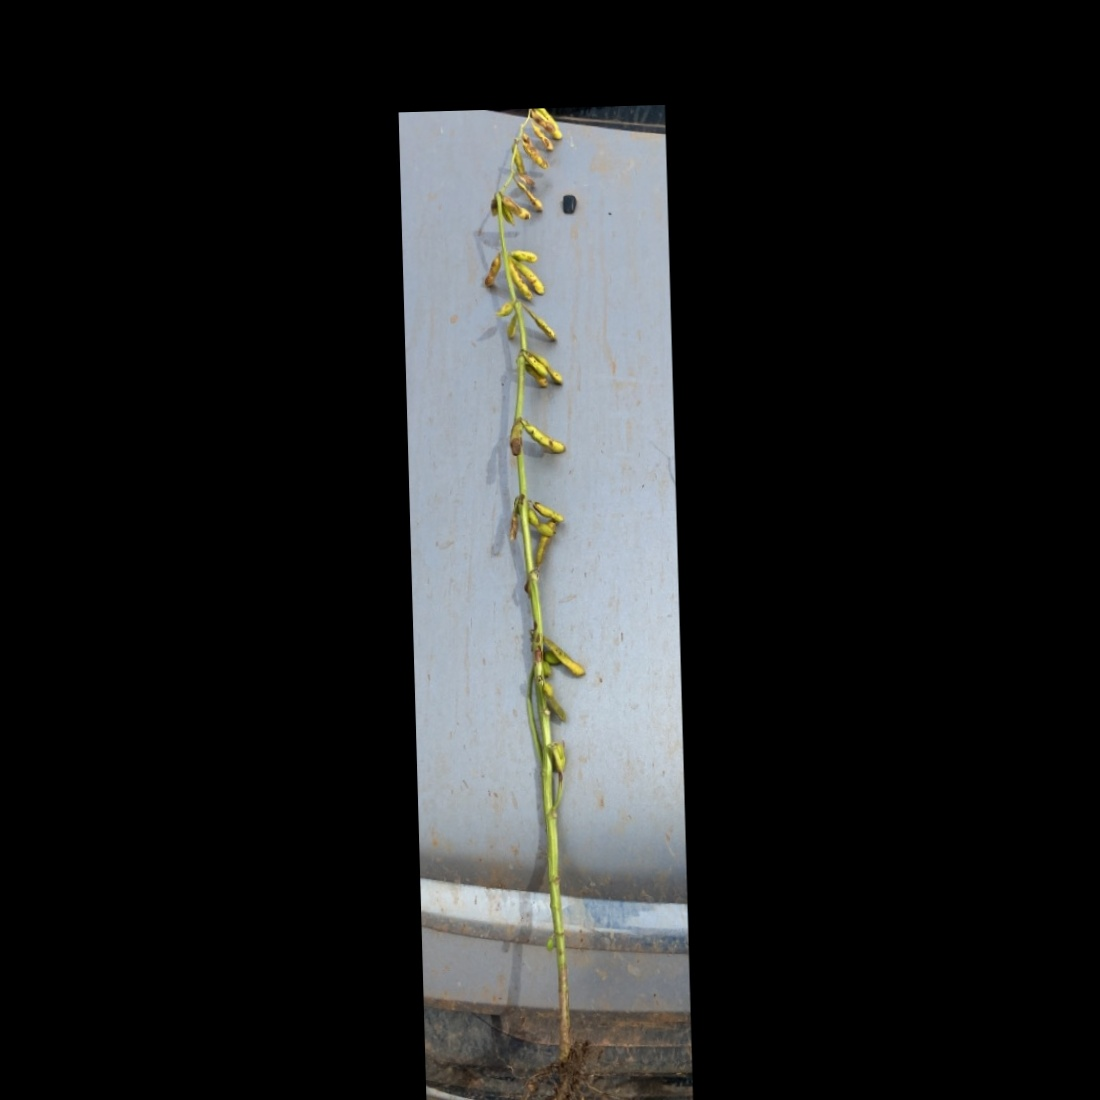pod: (519, 417, 570, 459), (520, 351, 569, 390), (522, 304, 565, 343), (504, 259, 536, 307), (515, 254, 547, 298), (511, 178, 544, 215), (497, 191, 531, 222), (529, 121, 557, 156), (480, 250, 504, 289), (520, 352, 552, 380), (511, 142, 529, 183), (508, 246, 543, 261), (502, 313, 520, 342)
soy: (459, 88, 614, 1100)
